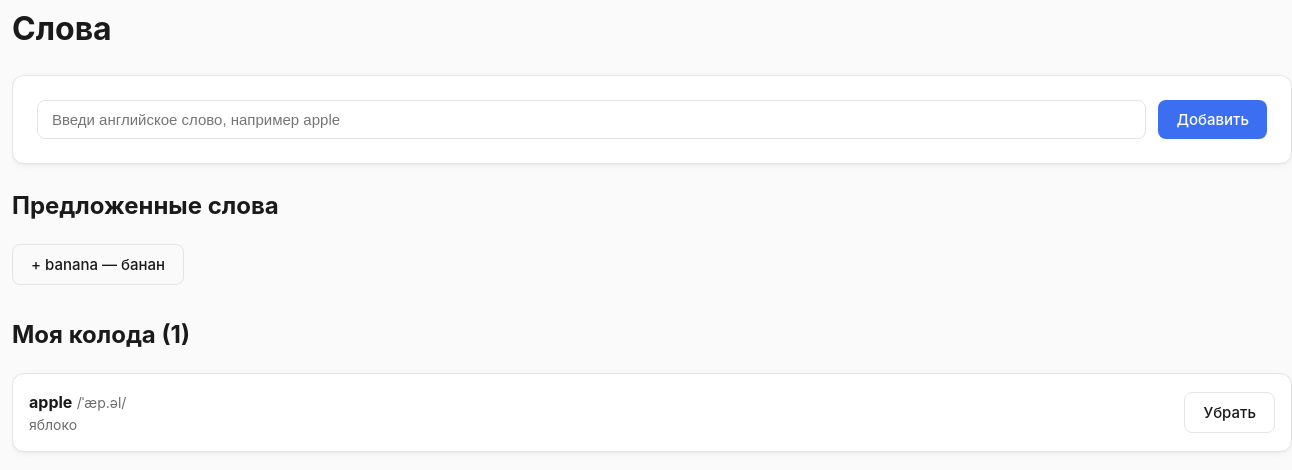
Scenario: Words - adding a word › disables the submit button and shows progress text while adding
Expected: the heading "Моя колода (1)" is shown, [12,320,190,349]
Step 1. Type "apple" into the field with placeholder "Введи английское слово, например apple" → (592, 119), box [37,100,1146,139]
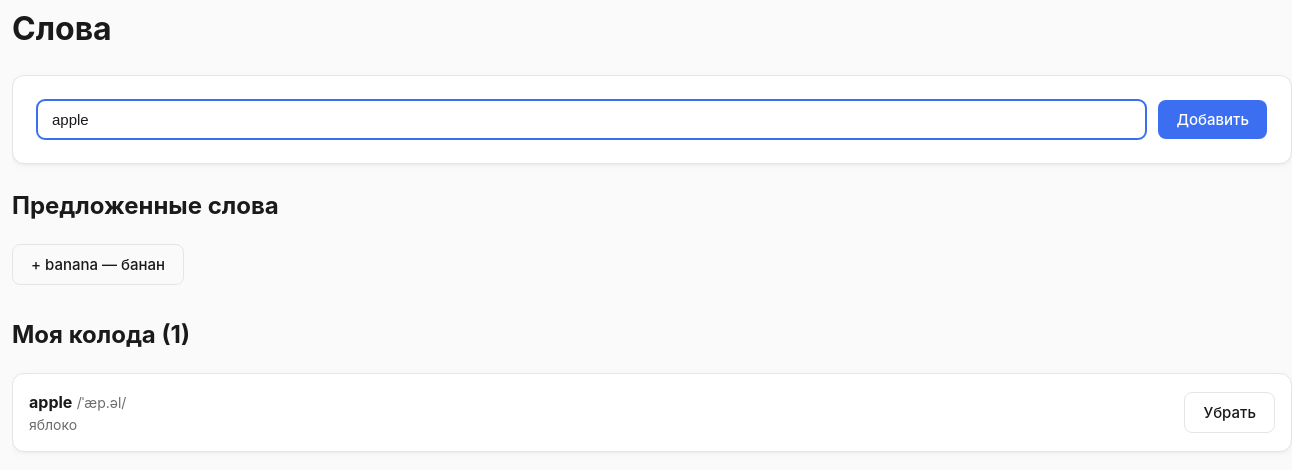
Step 2. Click the button "Добавить" → (1213, 119), box [1158,100,1267,139]
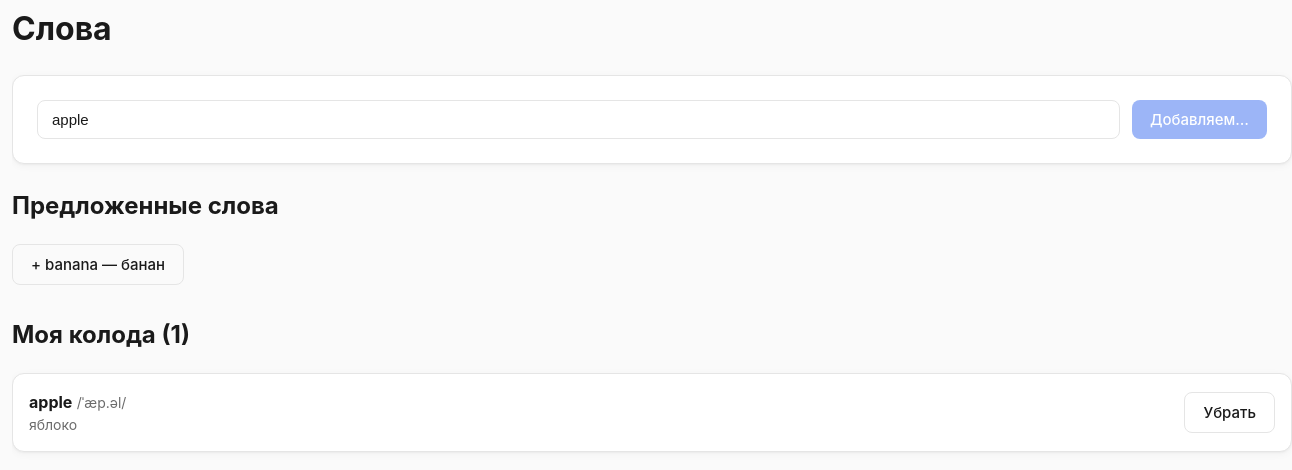
Result: the button "Добавляем…" is disabled at [1132,100,1267,139]
